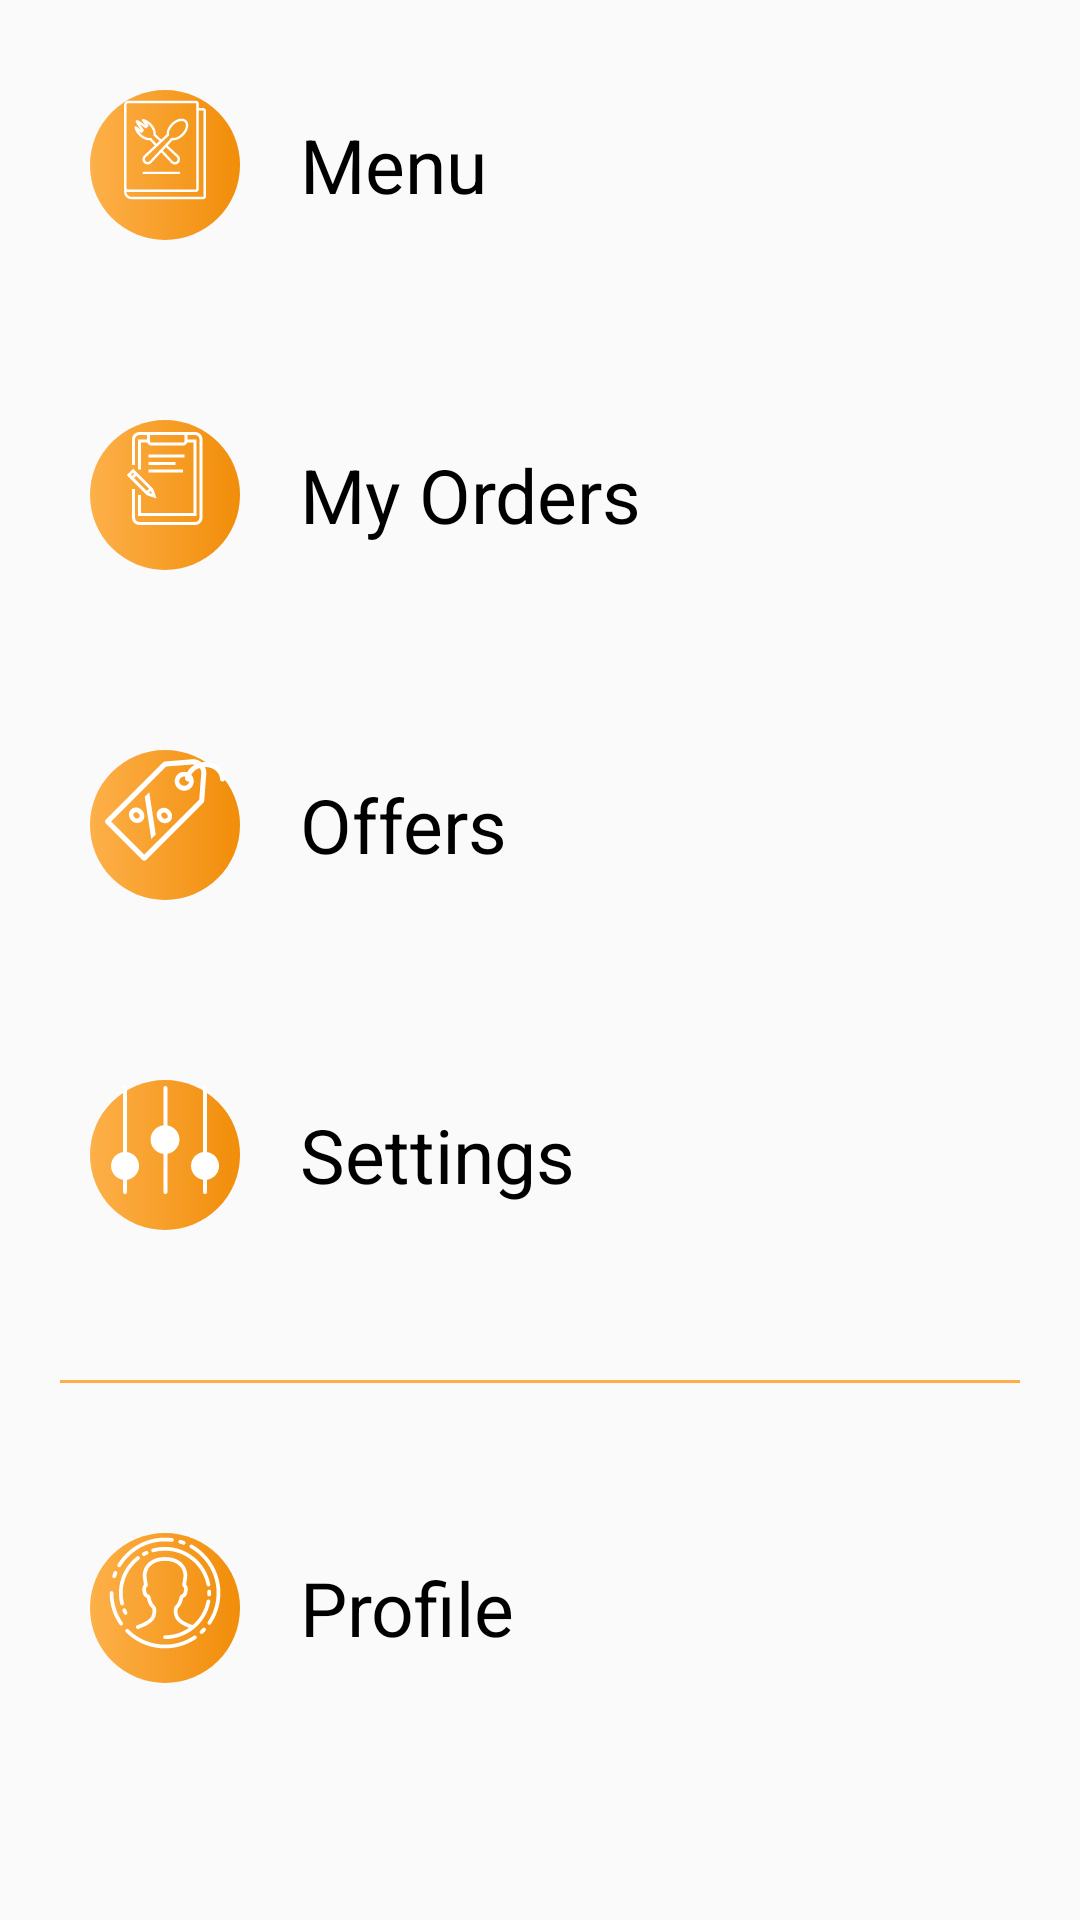

Locate icon controls on the screen. Image size 1080*1920, boxes as (x1,y1,x2,y2).
discount: (90,750,240,900)
